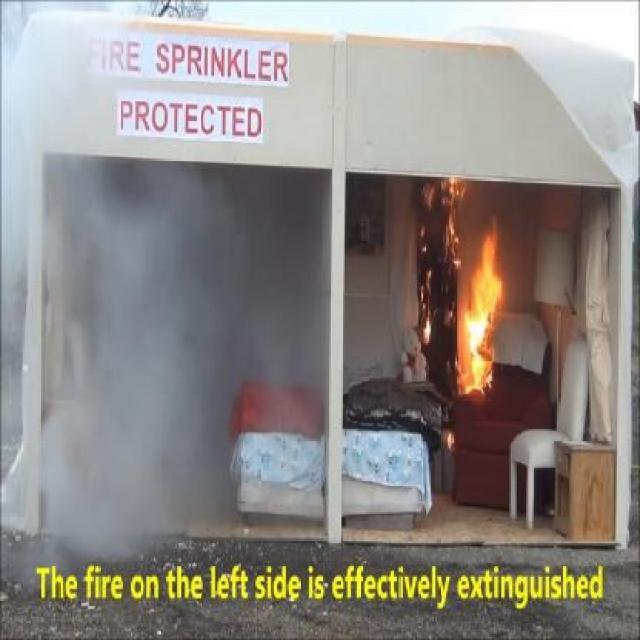fire: (406, 193, 542, 444)
smoke: (16, 159, 233, 572), (17, 6, 103, 162)
